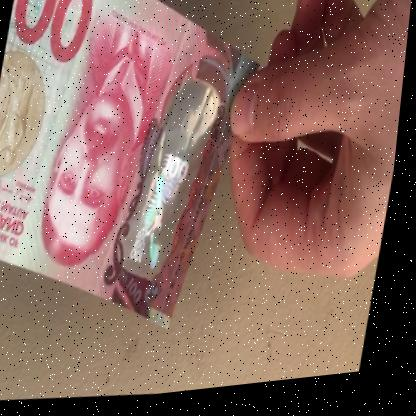100F: (130, 99, 217, 281)
